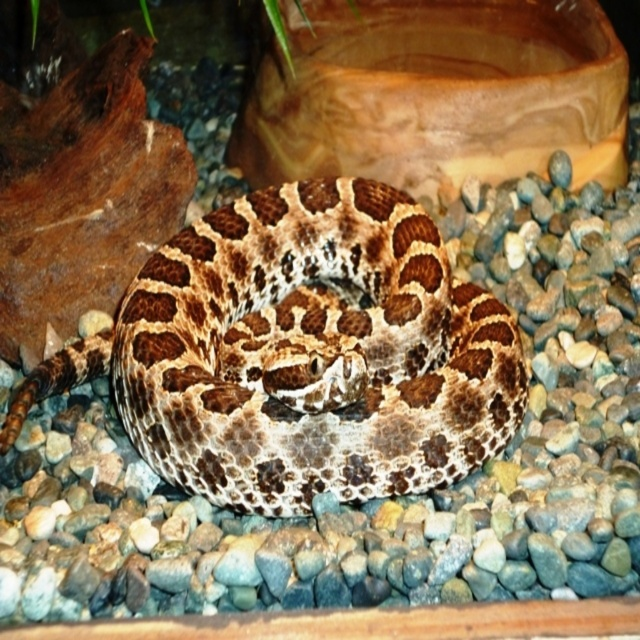Snake: (0, 176, 531, 517)
